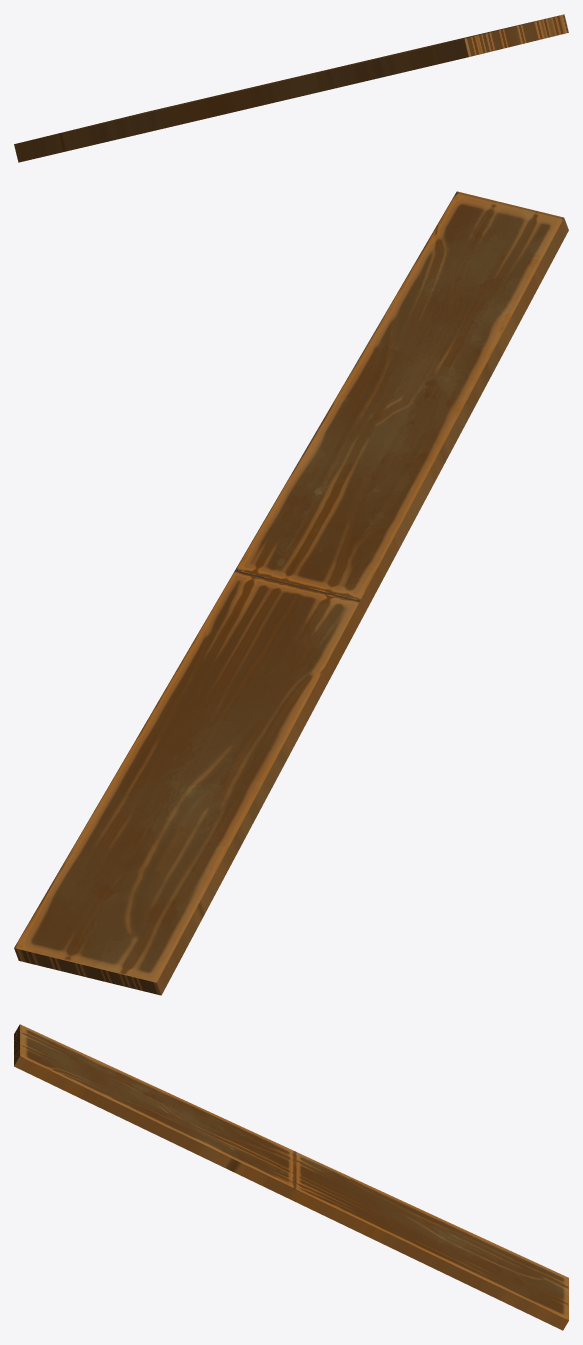
3 renders of one model, top to bottom at view 1: azimuth 30°, elevation 25°; view 2: azimuth 150°, elevation 25°; view 3: azimuth 270°, elevation 25°, orthographic. The views are drawn at different scales.
Visible parts, largest first — view 1: Cube.2106; view 2: Cube.2106; view 3: Cube.2106.
Part boxes in pixels (x1,y1,x2,y2): Cube.2106: (14,14,568,162); Cube.2106: (14,191,568,995); Cube.2106: (14,1024,568,1330).
Size of the model in its own units: 133 by 391 by 715.
Materials: 1 (1 with a texture image).
